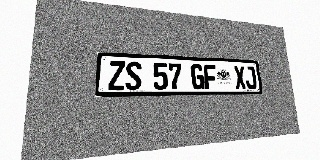5: (153, 62, 168, 90)
7: (168, 63, 182, 90)
F: (203, 64, 217, 89)
G: (190, 64, 205, 90)
J: (244, 66, 257, 89)
S: (125, 61, 141, 90)
X: (233, 66, 246, 89)
Z: (108, 61, 125, 90)
